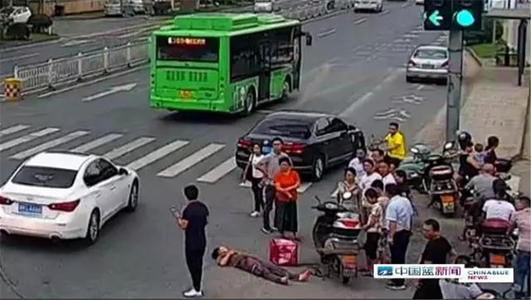10+: (155, 108, 531, 299)
down: (206, 241, 314, 291)
